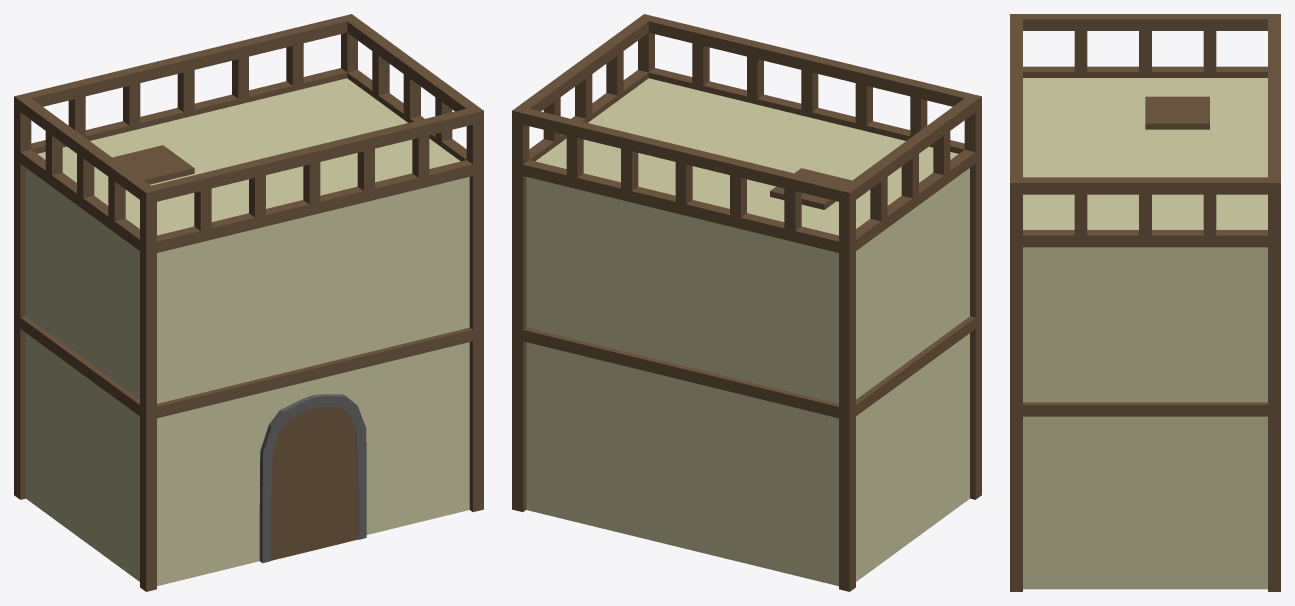
The model's file is Tower.fbx.
The picture shows the model from 3 angles, left to right: view 1: azimuth 30°, elevation 25°; view 2: azimuth 150°, elevation 25°; view 3: azimuth 270°, elevation 25°; orthographic projection. The views are drawn at different scales.
Parts seen in each view (by area): view 1: Tower; view 2: Tower; view 3: Tower.
Part boxes in pixels (x1=…): Tower: x1=14, y1=14, x2=483, y2=591; Tower: x1=512, y1=14, x2=981, y2=591; Tower: x1=1010, y1=14, x2=1280, y2=591.
Size of the model in its own units: 620 by 700 by 420.
